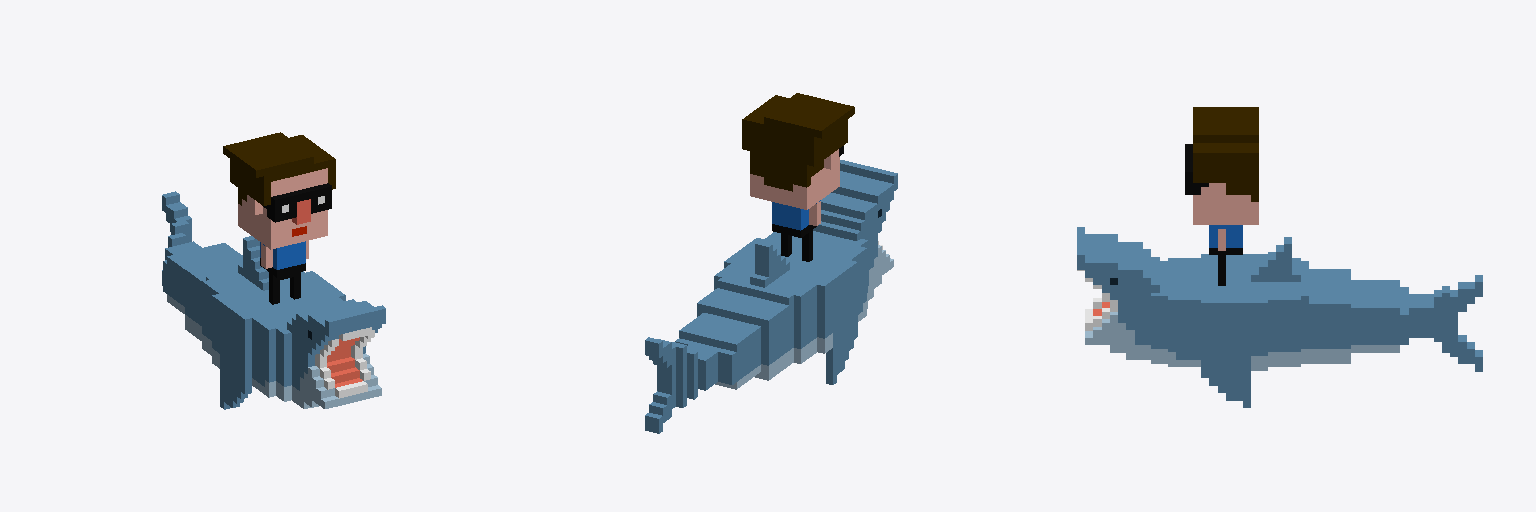
3 renders of one model, left to right at view 1: azimuth 30°, elevation 25°; view 2: azimuth 150°, elevation 25°; view 3: azimuth 270°, elevation 25°, orthographic.
Parts seen in each view (by area): view 1: Matrix_1, Matrix; view 2: Matrix_1, Matrix; view 3: Matrix_1, Matrix.
Part boxes in pixels (x1,y1,x2,y2): Matrix_1: (162, 191, 385, 409); Matrix: (223, 132, 335, 304); Matrix_1: (645, 160, 897, 433); Matrix: (742, 93, 854, 261); Matrix_1: (1077, 227, 1482, 407); Matrix: (1185, 107, 1258, 285).
Size of the model in its own units: 14 by 34 by 49.
Materials: 1 (1 with a texture image).